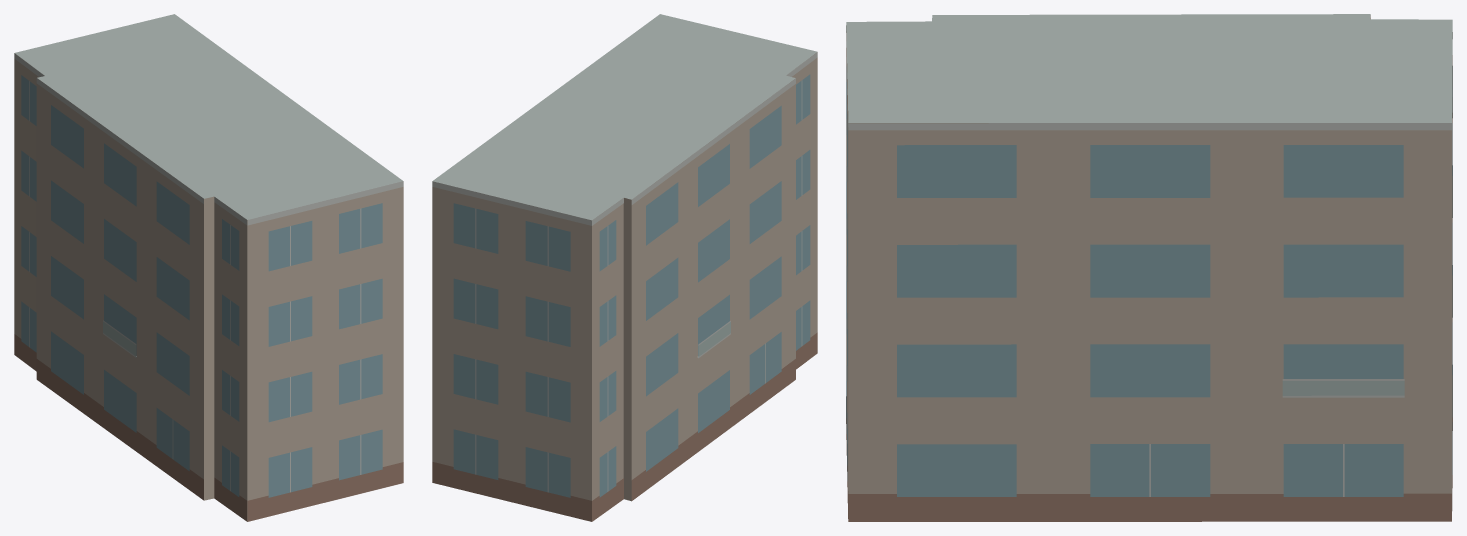
Rendered from survey-upis-32742597.glb.
The picture shows the model from 3 angles, left to right: view 1: azimuth 30°, elevation 25°; view 2: azimuth 150°, elevation 25°; view 3: azimuth 270°, elevation 25°; orthographic projection. The views are drawn at different scales.
Parts seen in each view (by area): view 1: survey-upis-32742597.tmp; view 2: survey-upis-32742597.tmp; view 3: survey-upis-32742597.tmp.
Boxes of the visible parts, <box> form: survey-upis-32742597.tmp: <box>14,14,403,521</box>; survey-upis-32742597.tmp: <box>432,14,817,521</box>; survey-upis-32742597.tmp: <box>846,14,1452,521</box>.
Size of the model in its own units: 7.78 by 13.2 by 18.2.
